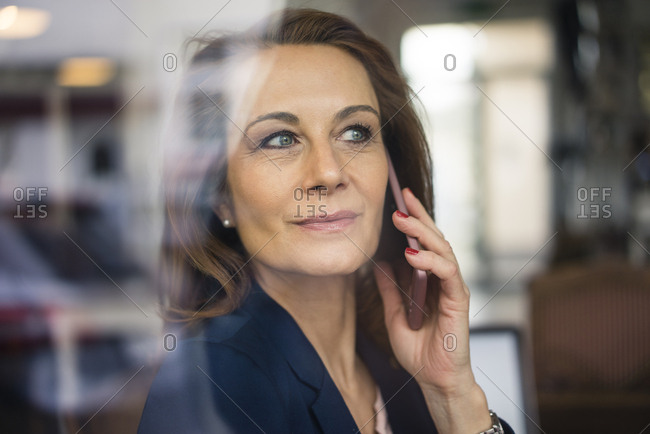phone: (362, 143, 473, 335)
talk: (241, 98, 479, 386)
